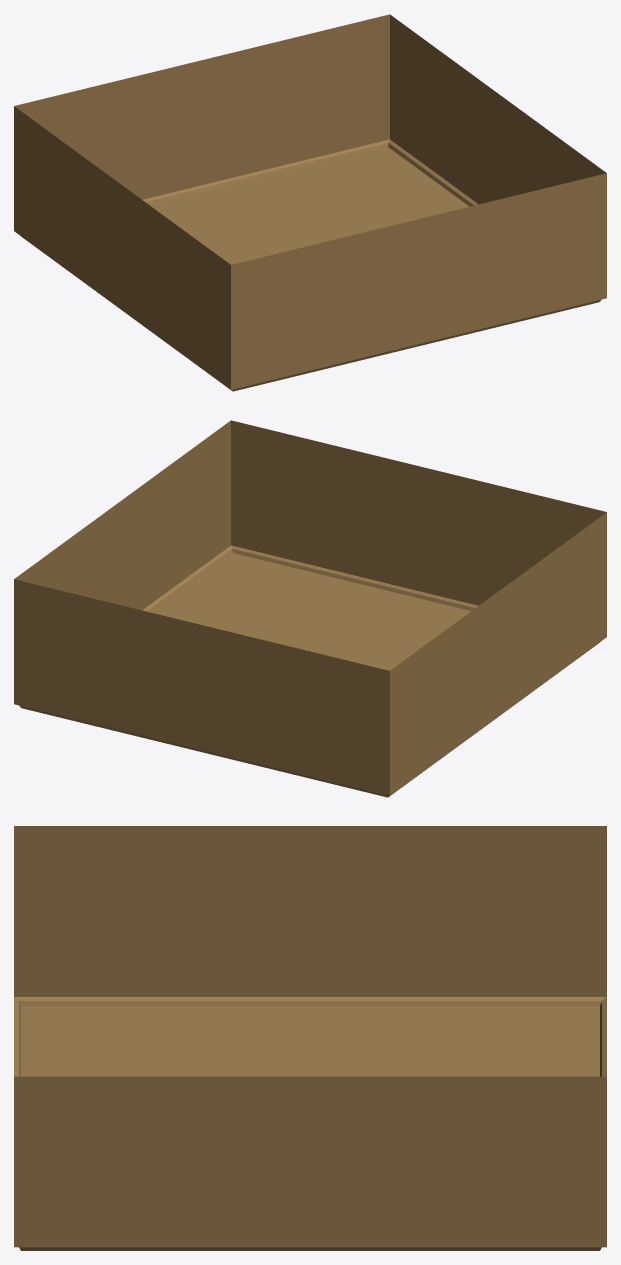
The model's file is tile_layer_base_master_wood.glb.
The picture shows the model from 3 angles, top to bottom: view 1: azimuth 30°, elevation 25°; view 2: azimuth 150°, elevation 25°; view 3: azimuth 270°, elevation 25°; orthographic projection. The views are drawn at different scales.
Visible parts, largest first — view 1: tile_layer_base_master_wood_body; view 2: tile_layer_base_master_wood_body; view 3: tile_layer_base_master_wood_body.
Boxes of the visible parts, x1,y1,x2,y2 form: tile_layer_base_master_wood_body: (14,14,606,391); tile_layer_base_master_wood_body: (14,420,606,797); tile_layer_base_master_wood_body: (14,826,606,1250).
Size of the model in its own units: 1.35 by 0.445 by 1.35.
